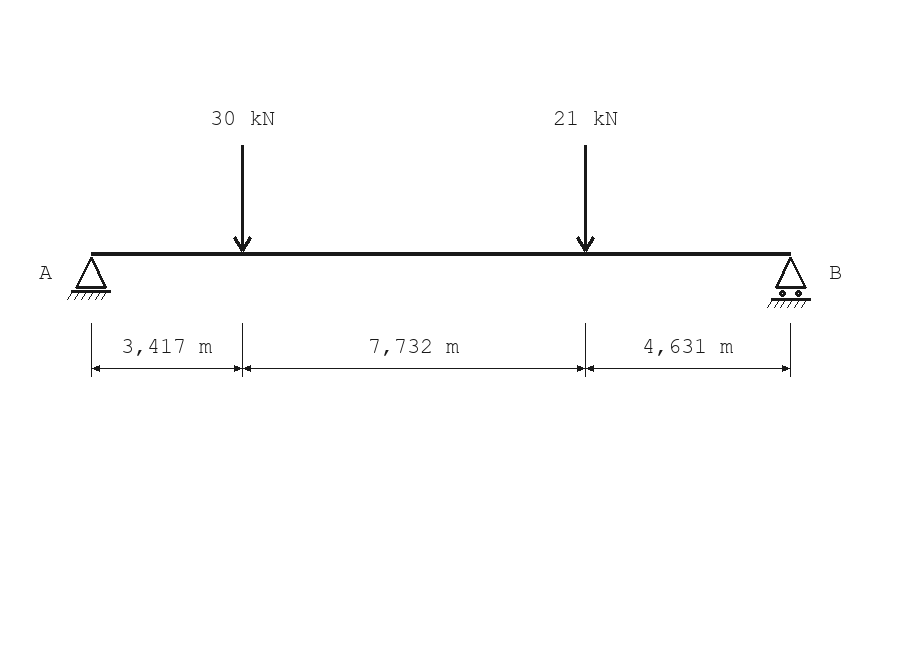pin_support: (67, 257, 111, 300)
point_load: (233, 145, 252, 252), (576, 145, 595, 252)
roller_support: (767, 257, 811, 308)
